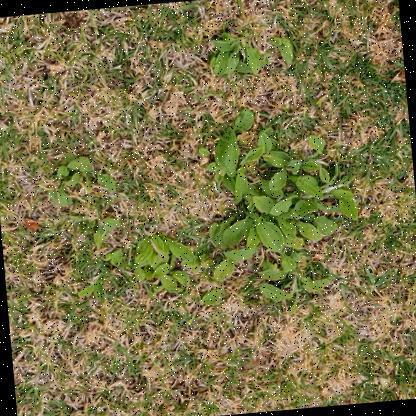Weeds: (63, 100, 368, 335), (46, 149, 122, 254), (207, 26, 295, 79)
